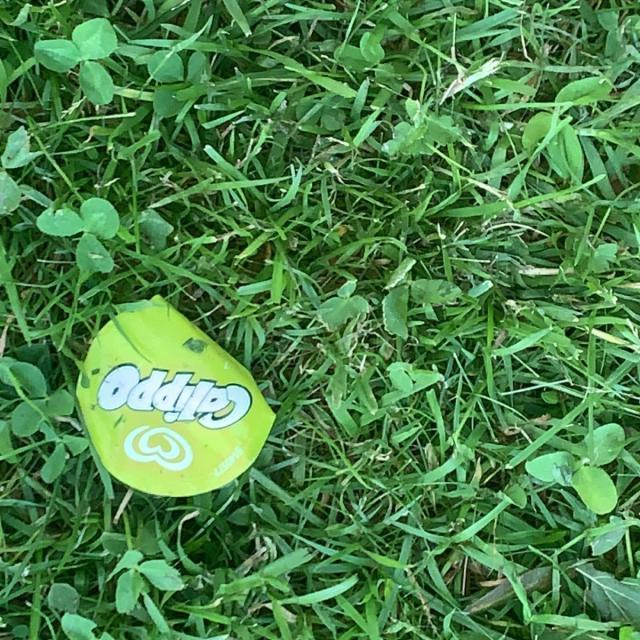Paper: (69, 291, 276, 500)
